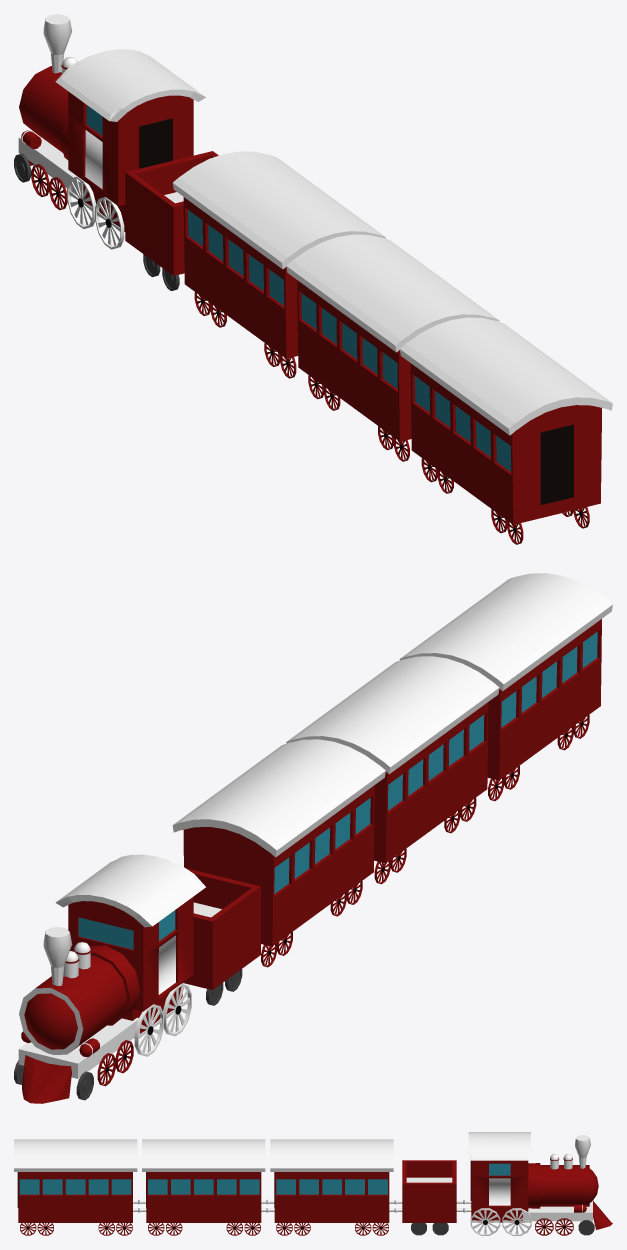
File: train.FBX
3 views of the same model, one above another, from view 1: azimuth 30°, elevation 25°; view 2: azimuth 150°, elevation 25°; view 3: azimuth 270°, elevation 25° (orthographic). The views are drawn at different scales.
Visible parts, largest first — view 1: Box010, Box006, Box008, Sphere002, Box005, Cylinder005, Cylinder004; view 2: Sphere002, Box006, Box008, Box010, Box005, Cylinder004, Cylinder005; view 3: Box008, Box006, Box010, Sphere002, Box005, Cylinder005, Cylinder004, Cylinder006, Cylinder007, Cylinder008, Cylinder010, Cylinder011.
Part boxes in pixels (<box>): Box010: <box>399,317,612,524</box>; Box006: <box>172,151,385,358</box>; Box008: <box>286,234,499,441</box>; Sphere002: <box>18,14,205,231</box>; Box005: <box>125,151,218,275</box>; Cylinder005: <box>95,197,124,249</box>; Cylinder004: <box>67,176,96,228</box>; Sphere002: <box>18,854,205,1103</box>; Box006: <box>172,739,385,946</box>; Box008: <box>286,656,499,863</box>; Box010: <box>399,573,612,780</box>; Box005: <box>183,868,260,990</box>; Cylinder004: <box>134,1004,163,1056</box>; Cylinder005: <box>163,983,191,1036</box>; Box008: <box>139,1139,267,1222</box>; Box006: <box>267,1139,395,1222</box>; Box010: <box>14,1139,139,1222</box>; Sphere002: <box>464,1132,612,1229</box>; Box005: <box>395,1160,464,1222</box>; Cylinder005: <box>470,1204,500,1235</box>; Cylinder004: <box>502,1208,531,1235</box>; Cylinder006: <box>535,1218,553,1235</box>; Cylinder007: <box>555,1218,573,1235</box>; Cylinder008: <box>578,1220,594,1235</box>; Cylinder010: <box>432,1223,448,1235</box>; Cylinder011: <box>411,1223,426,1235</box>.
Size of the model in its own units: 138 by 199 by 1213.
